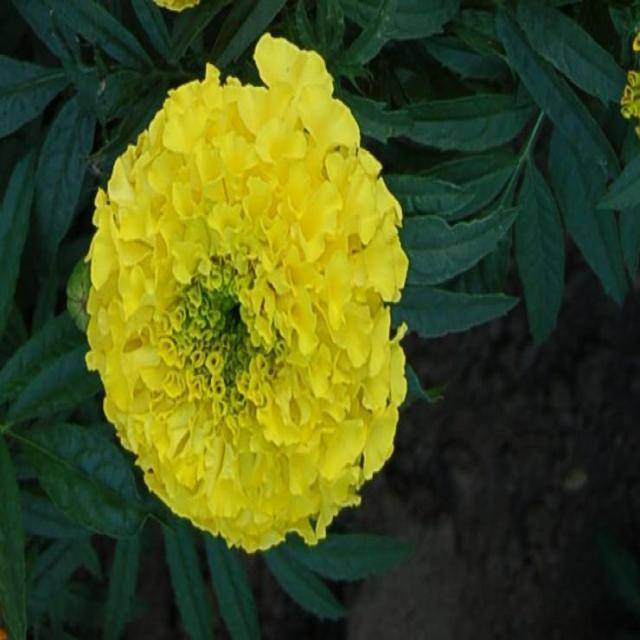marigold: (84, 47, 430, 624)
